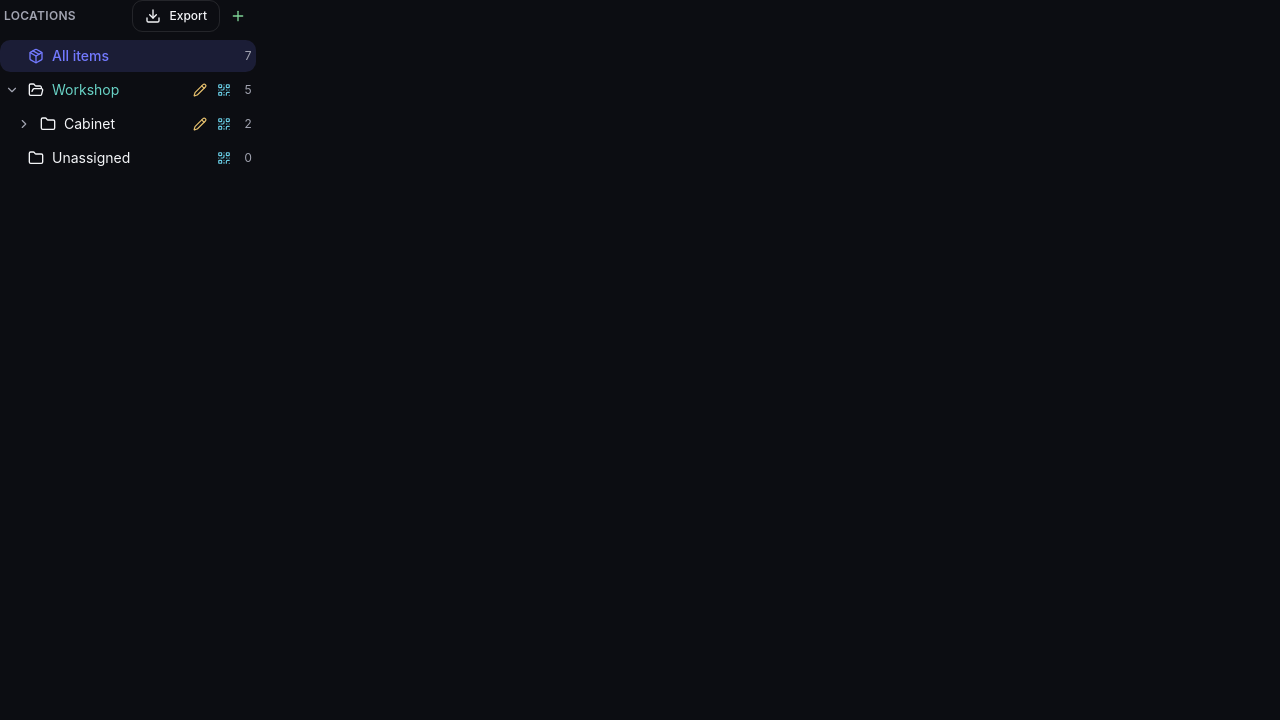
Test: LocationSidebar — accessible APG tree › cancelling the confirmation leaves the location untouched
Click the button named "Edit Workshop" at (200, 90), box [188,78,212,102]
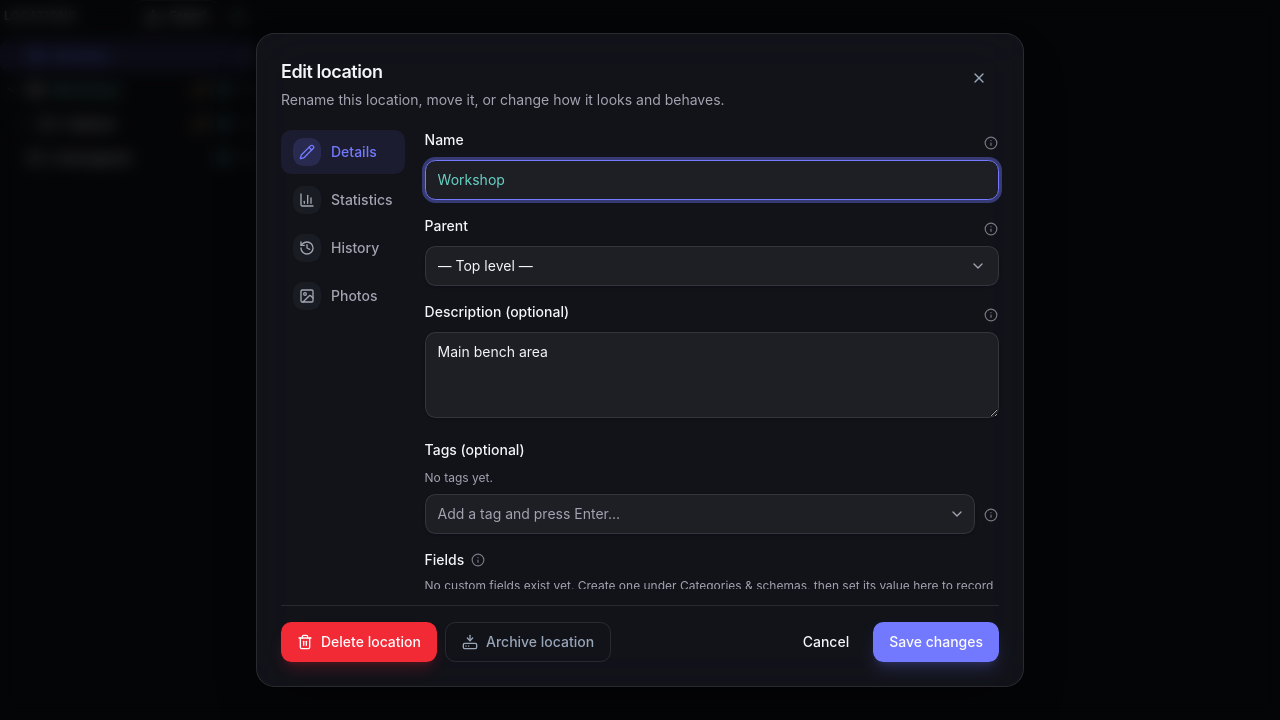
Click the button with test id "edit-location-delete" at (359, 642), box [281,622,437,662]
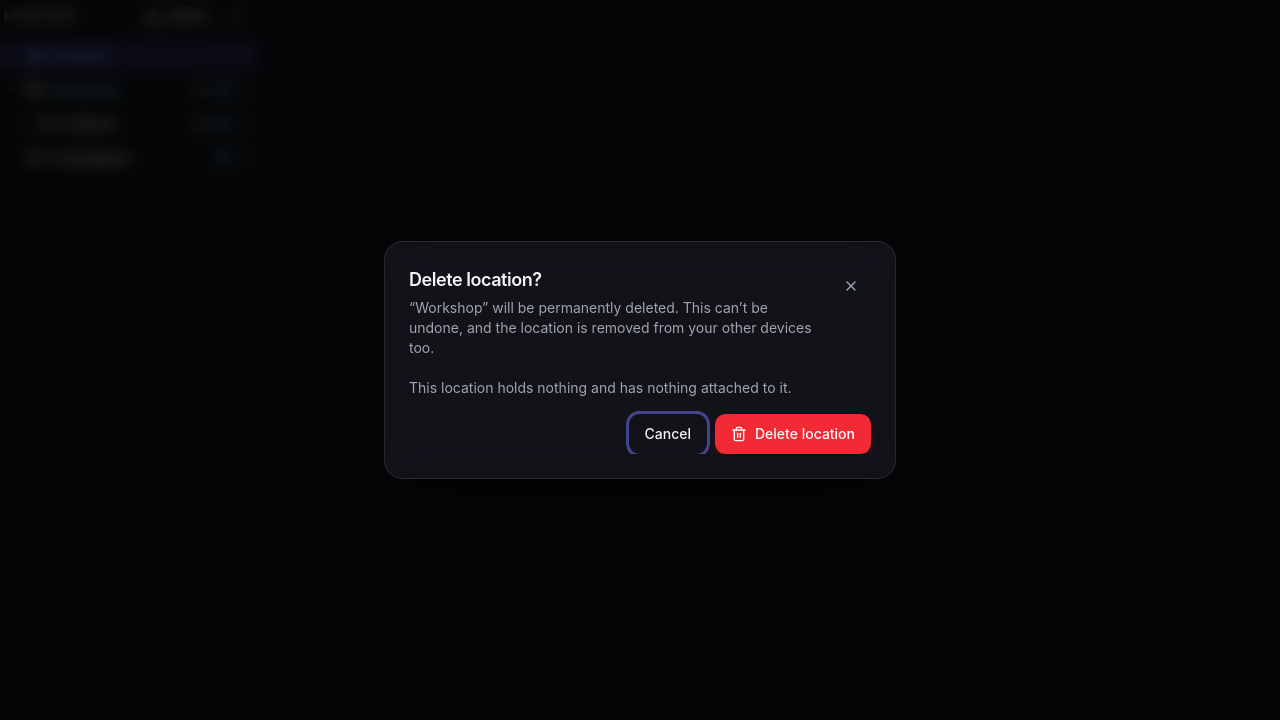
Click the button "Cancel" at (668, 434), box [628,414,707,454]
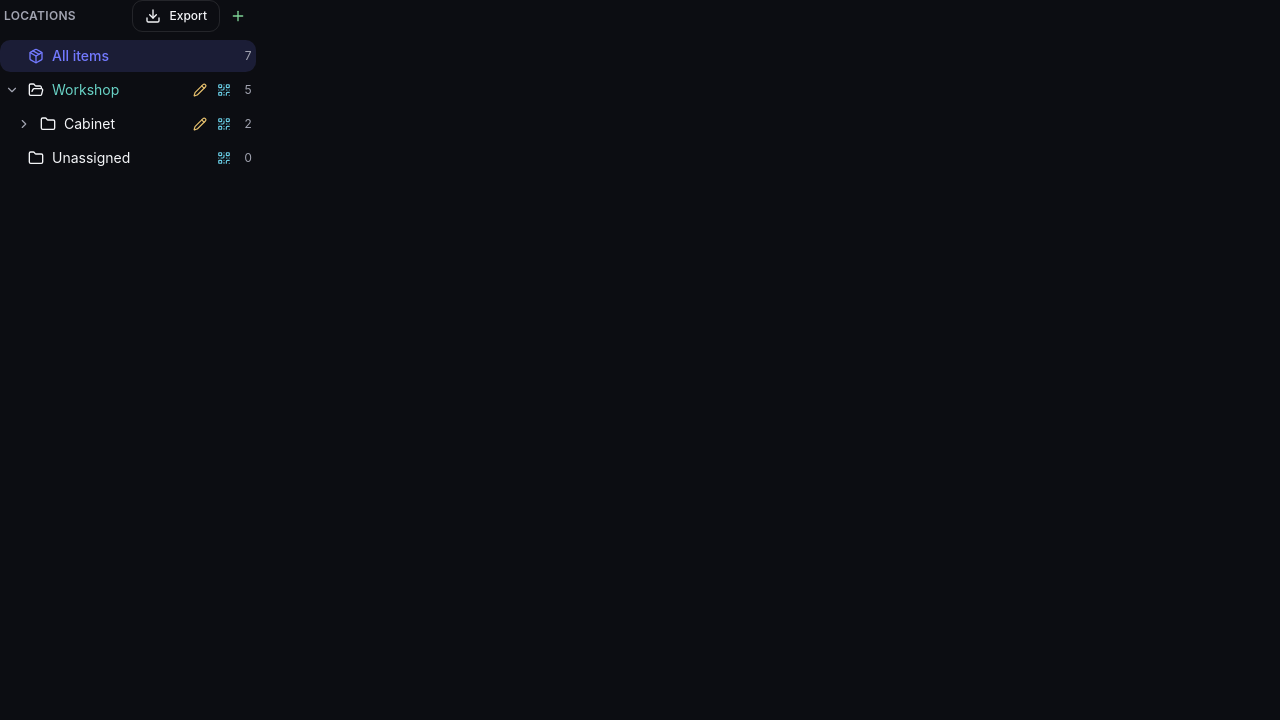
expect the heading "Delete location?" is gone: met
